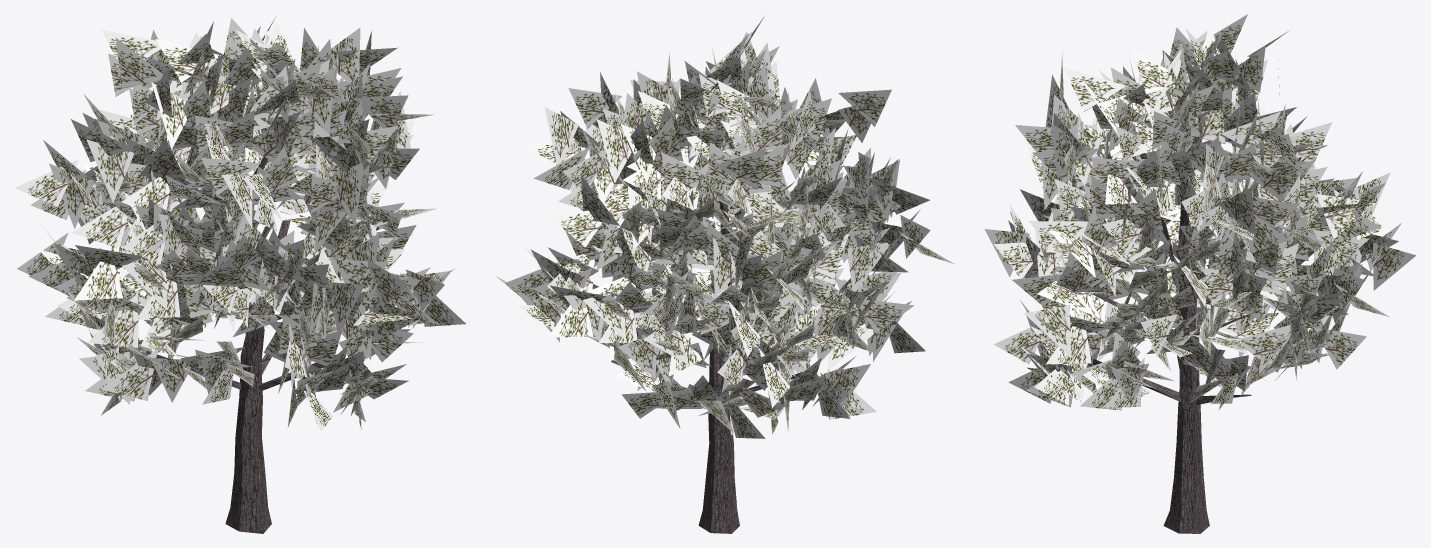
Rendered from village tree.fbx.
3 views of the same model, side by side, from view 1: azimuth 30°, elevation 25°; view 2: azimuth 150°, elevation 25°; view 3: azimuth 270°, elevation 25° (orthographic). The views are drawn at different scales.
Visible parts, largest first — view 1: mesh_1.001; view 2: mesh_1.001; view 3: mesh_1.001.
Part boxes in pixels (x1,y1,x2,y2): mesh_1.001: [15, 17, 465, 533]; mesh_1.001: [496, 16, 954, 533]; mesh_1.001: [984, 14, 1415, 533].
Size of the model in its own units: 4923 by 5867 by 4816.
Materials: 2 (2 with a texture image).
